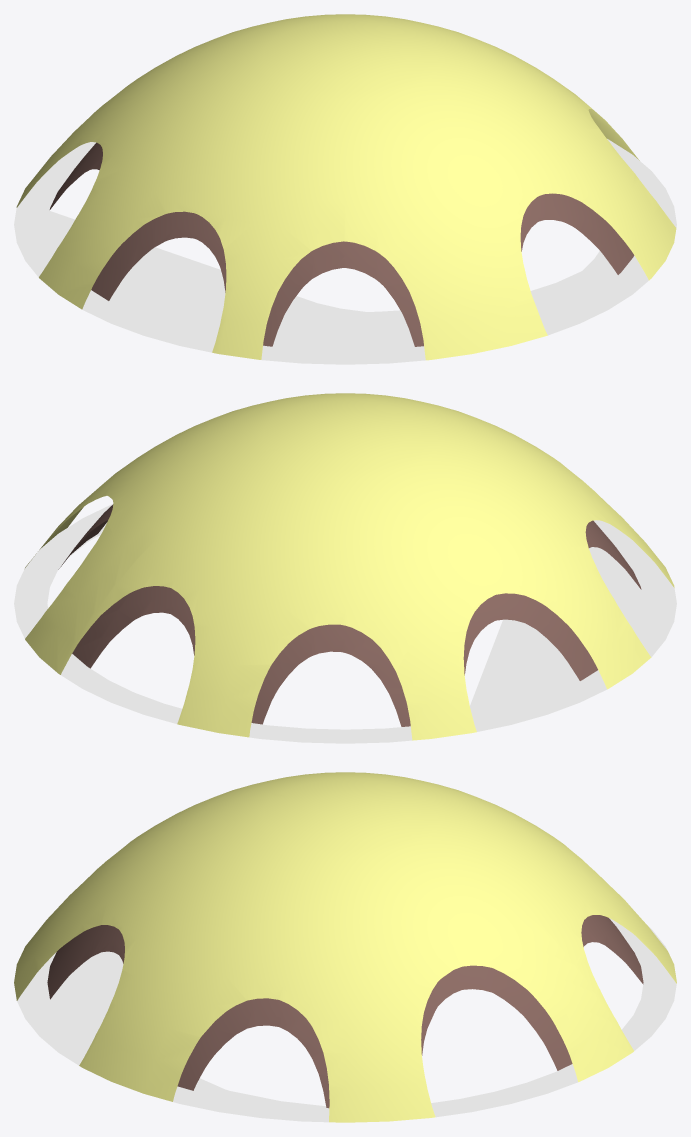
The model's file is Dome 2.fbx.glb.
The picture shows the model from 3 angles, top to bottom: view 1: azimuth 30°, elevation 25°; view 2: azimuth 150°, elevation 25°; view 3: azimuth 270°, elevation 25°; orthographic projection.
Visible parts, largest first — view 1: Model.1; view 2: Model.1; view 3: Model.1.
Boxes of the visible parts, box(x1,y1,x2,y2) form: Model.1: box(14, 14, 676, 364); Model.1: box(14, 393, 676, 743); Model.1: box(14, 772, 676, 1122).
Size of the model in its own units: 40.04 by 11.8 by 40.04.
